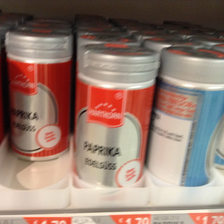spices: (72, 43, 159, 186), (147, 47, 224, 185), (5, 30, 72, 161)
